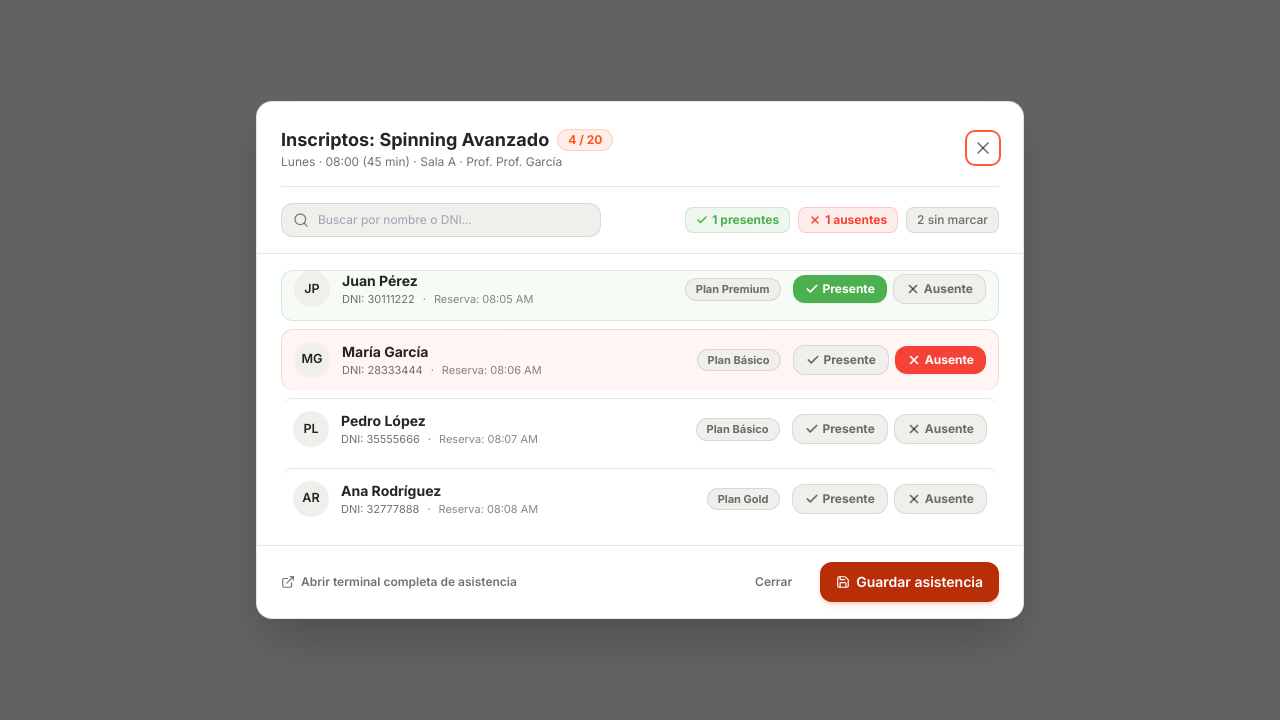
it: ClassAttendeesModal > renders tri-state with correct counter › shows empty message when no attendees match search
This screenshot has width=1280, height=720.
Step 1. Type "zzz_not_found" into the field with placeholder "Buscar por nombre o DNI..." → x=441, y=220, box [281,203,601,237]
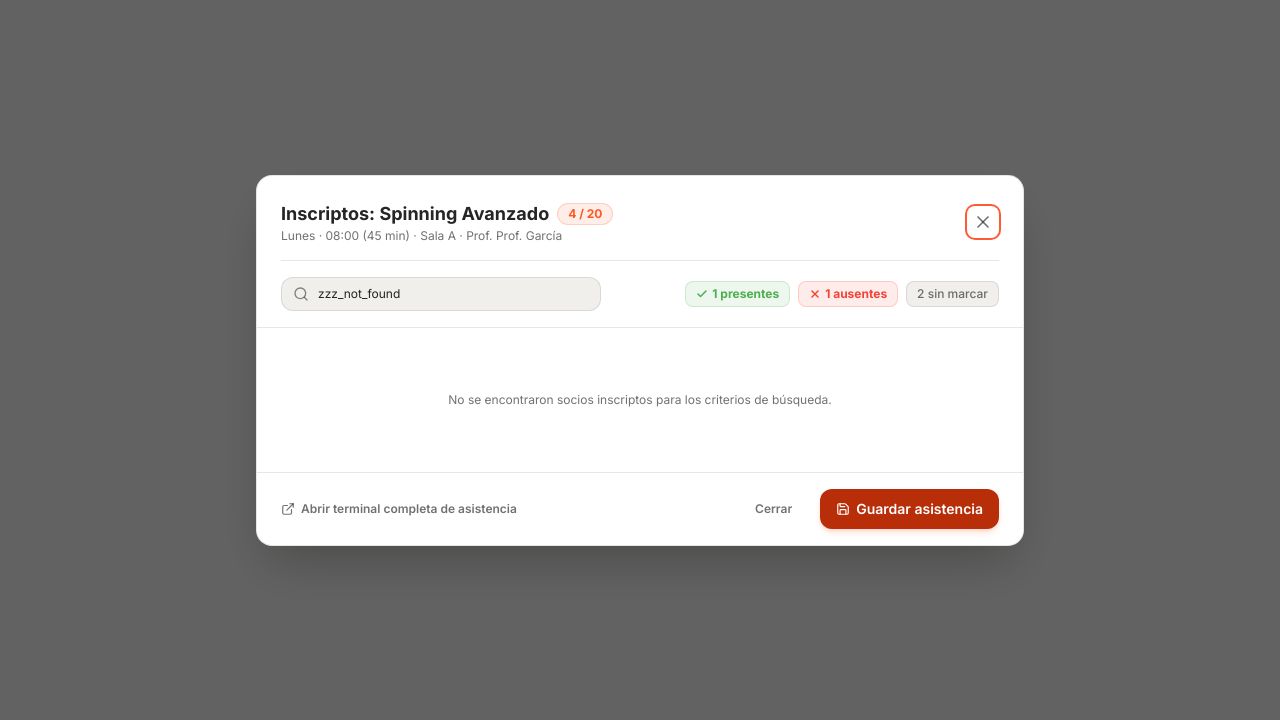
Now the text "No se encontraron socios" is shown, box [448,392,832,406]
